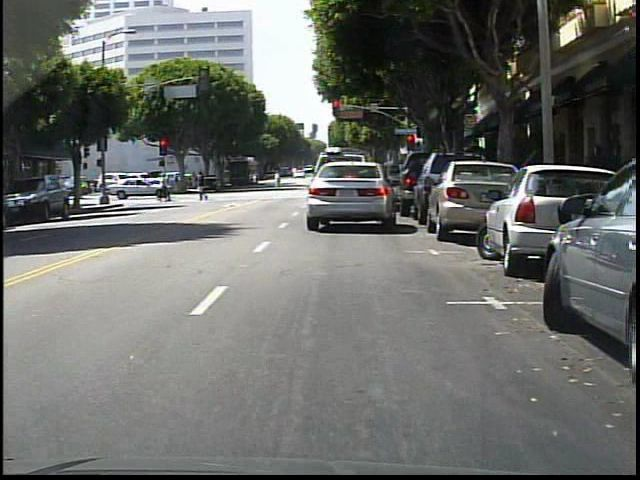person: (159, 174, 174, 203), (196, 171, 211, 200), (272, 169, 282, 191)
